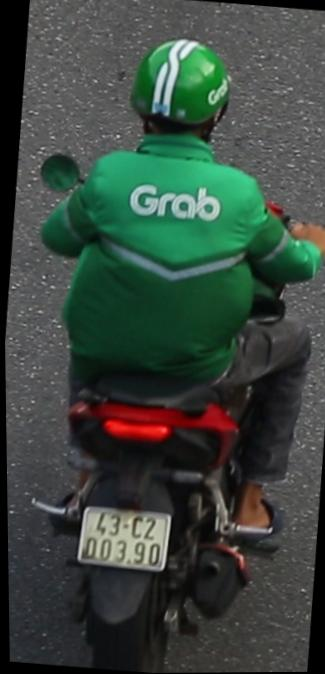LP: (71, 496, 177, 578)
helmet: (118, 28, 241, 170)
